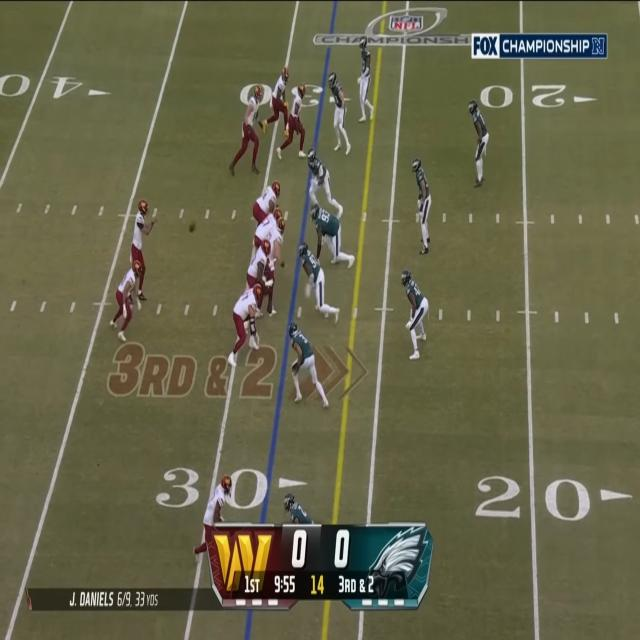Ball: (188, 220, 197, 235)
